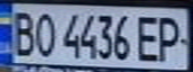3: (96, 11, 115, 61)
4: (57, 9, 81, 58), (78, 11, 100, 60)
6: (112, 11, 136, 62)
B: (6, 7, 39, 57)
E: (133, 11, 163, 63)
O: (30, 9, 57, 57)
P: (151, 12, 187, 63)
